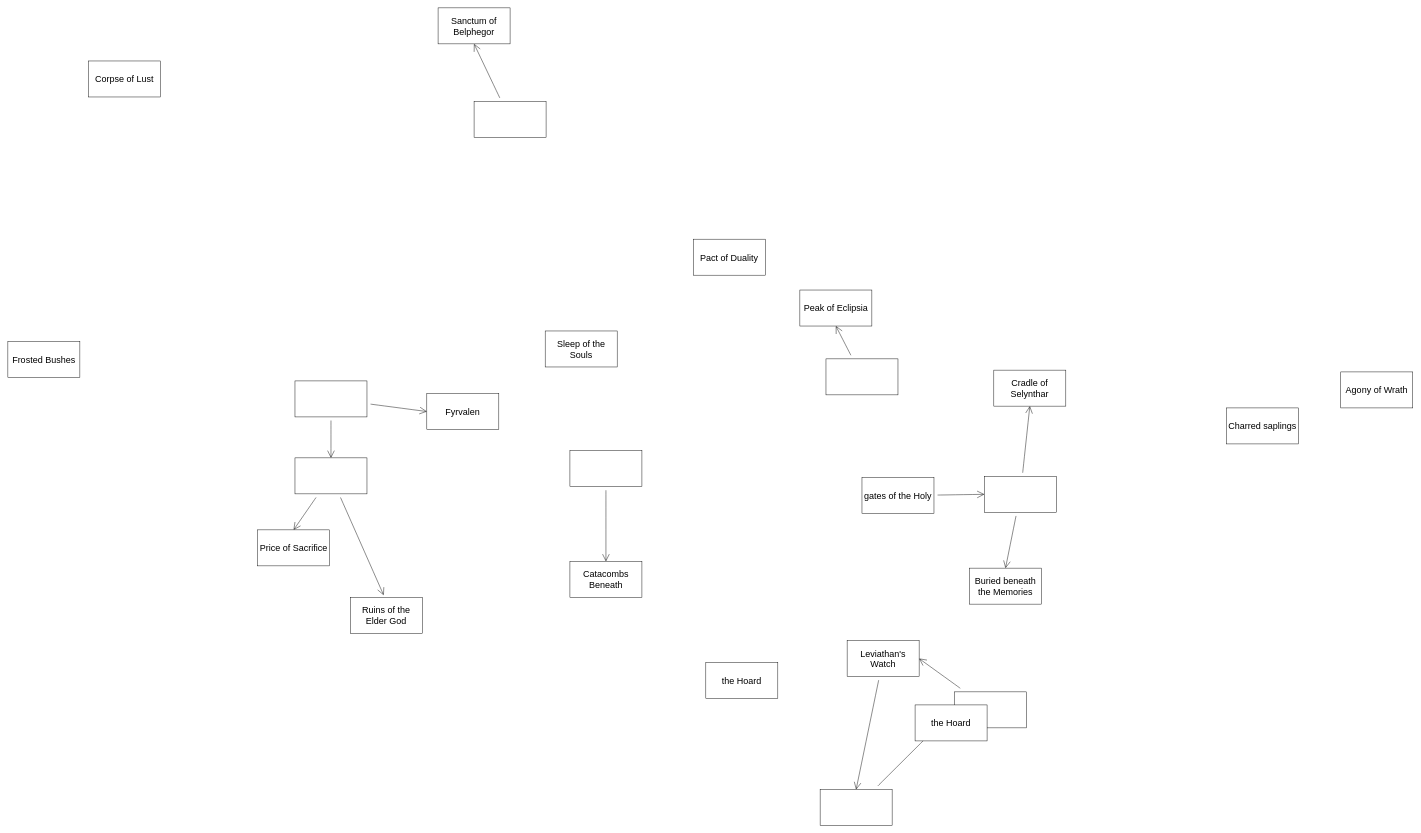
Image size: 1421x833. Some labels were removed from this diagram. Each missing label, with the centre of its shape:
"Armut" goes at pixel 510 119.
"Ring of the Sea" goes at pixel 856 807.
"Sanctum of the Blackened Faith" goes at pixel 331 398.
"Seraph-Elyon" goes at pixel 1020 494.
"Spire of the Bell" goes at pixel 605 468.
"Turned Tides" goes at pixel 990 709.
"where the highest fall" goes at pixel 862 376.
"Where the Ruins Meet" goes at pixel 331 475.
